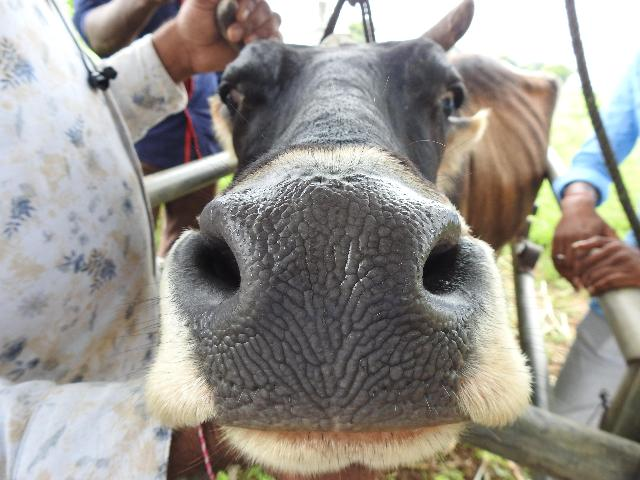Muzzle: (227, 199, 428, 409)
